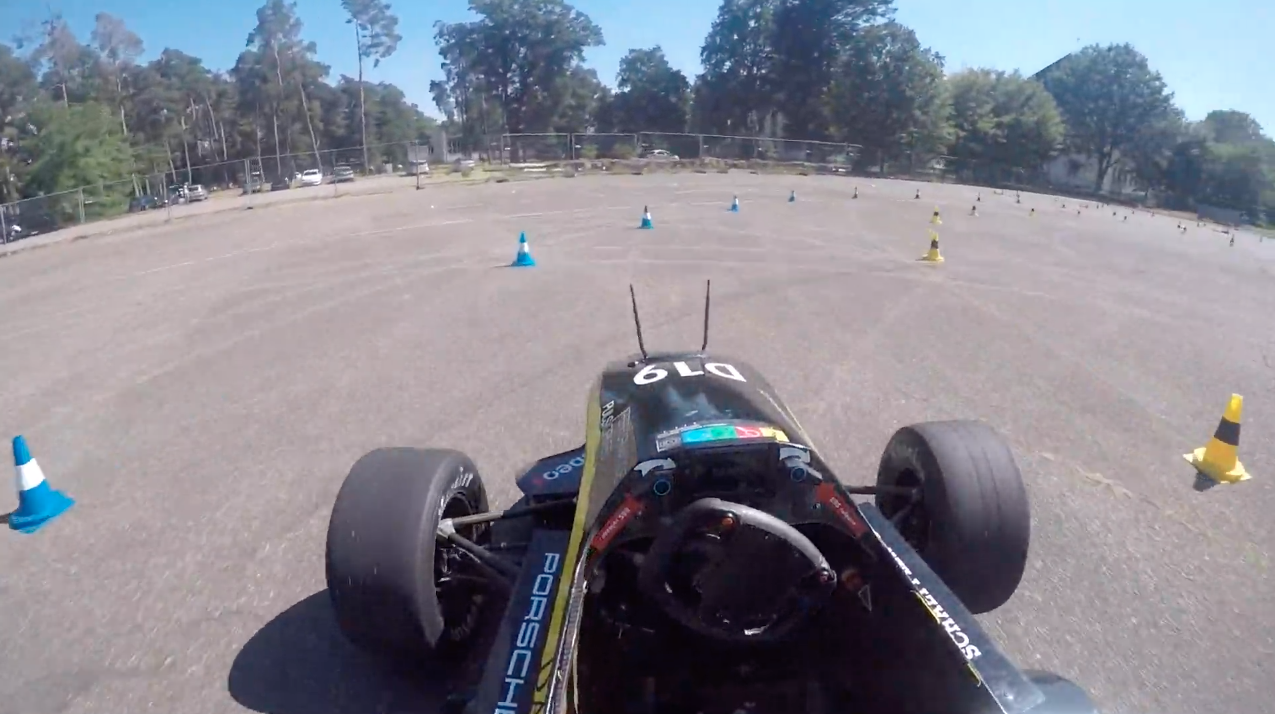lcone: (1, 430, 82, 536), (506, 228, 540, 273), (634, 201, 658, 233)
rcone: (1175, 390, 1260, 488), (920, 228, 947, 265)
